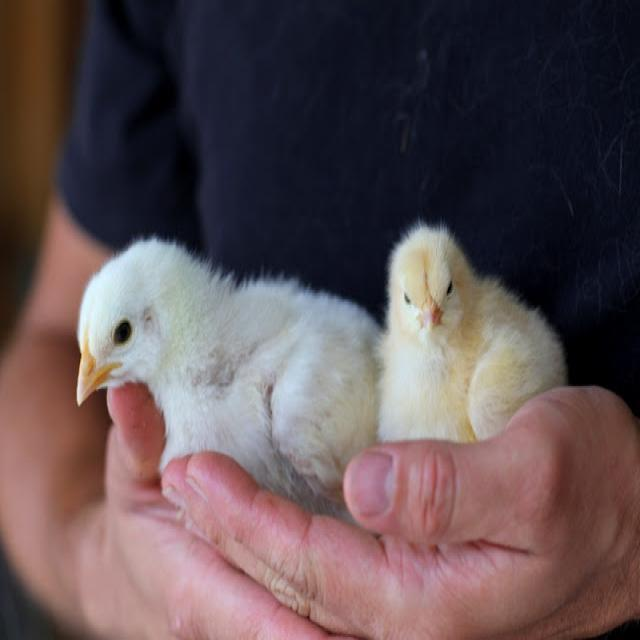poussin: (60, 230, 370, 502), (370, 229, 570, 439)
